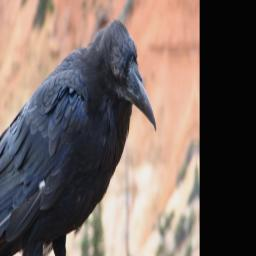Crow: (0, 8, 161, 256)
